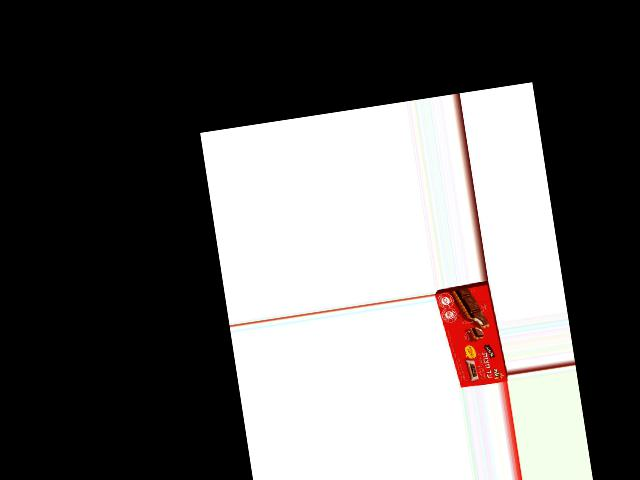chocolate: (440, 281, 504, 390)
